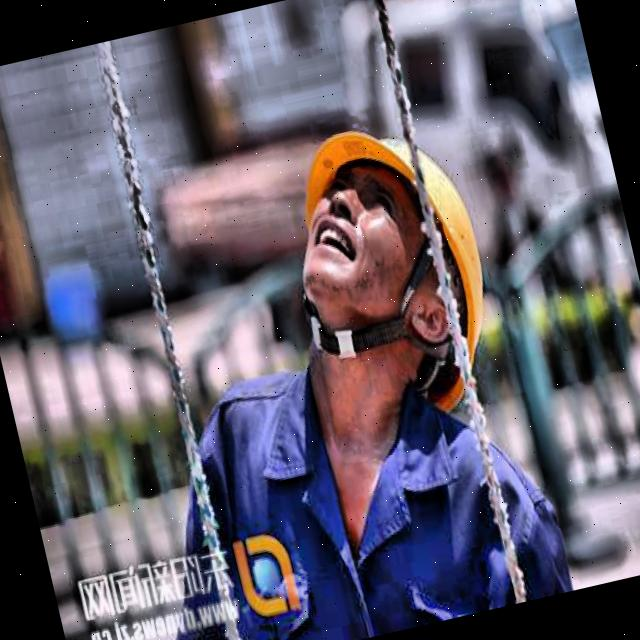helmet: (258, 85, 487, 393)
